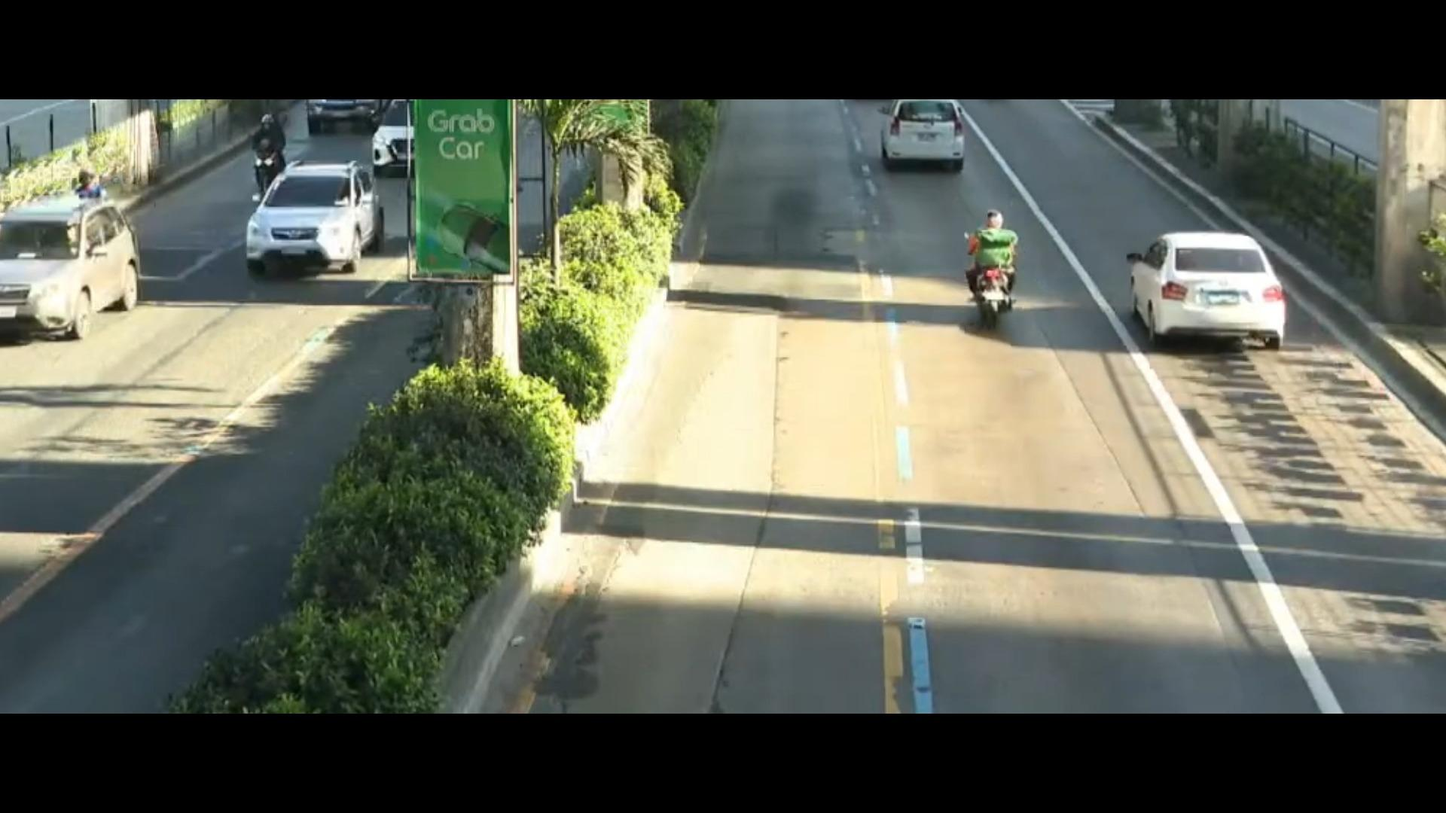Motorcycle: (955, 196, 1058, 345), (244, 111, 298, 205)
SUV: (0, 192, 162, 362), (238, 155, 388, 295), (366, 110, 415, 181)
Sedan: (1115, 219, 1319, 358)
